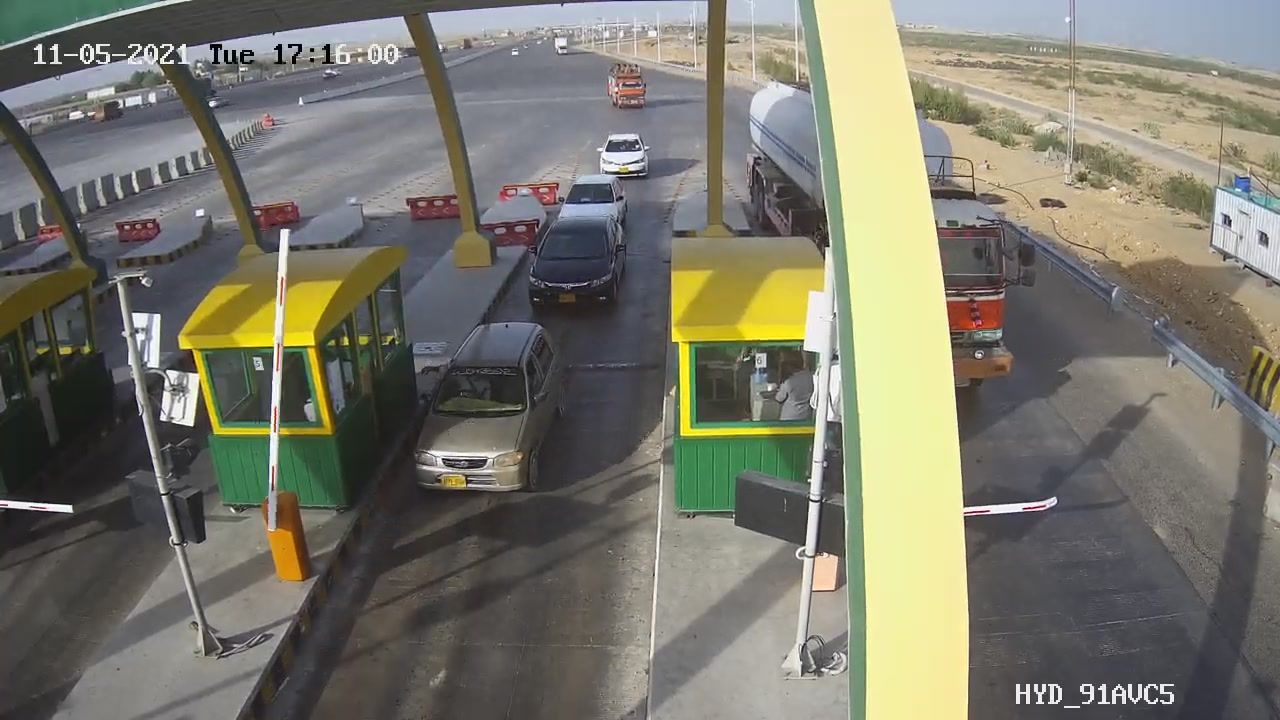F1: (400, 313, 578, 509), (513, 208, 642, 324)
